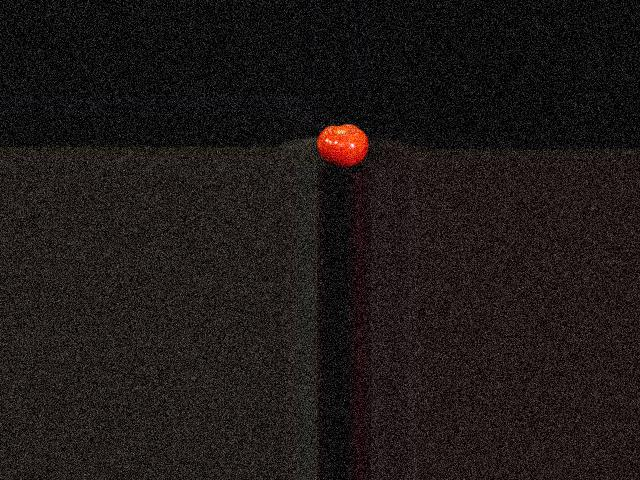tomato: (317, 124, 369, 167)
